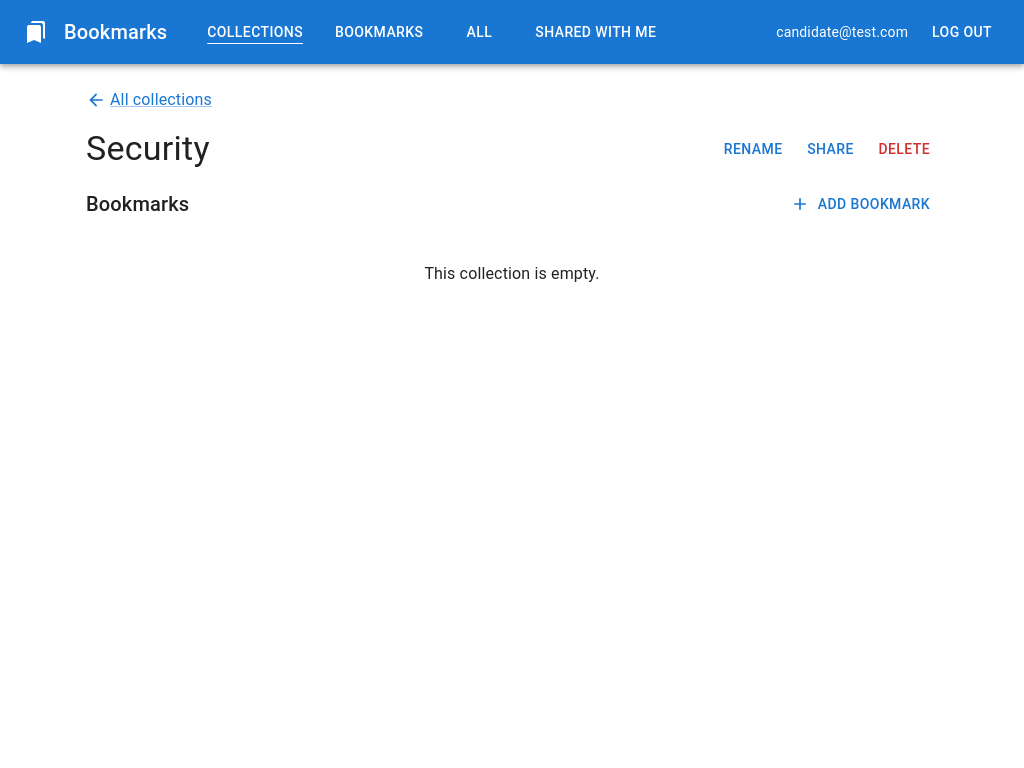
Test case: ShareDialog (ADR-019b/c/d) › shares with an email, clears the field, and lists the recipient
Click the button "Share" at [830, 149], box left=798, top=131, right=862, bottom=167
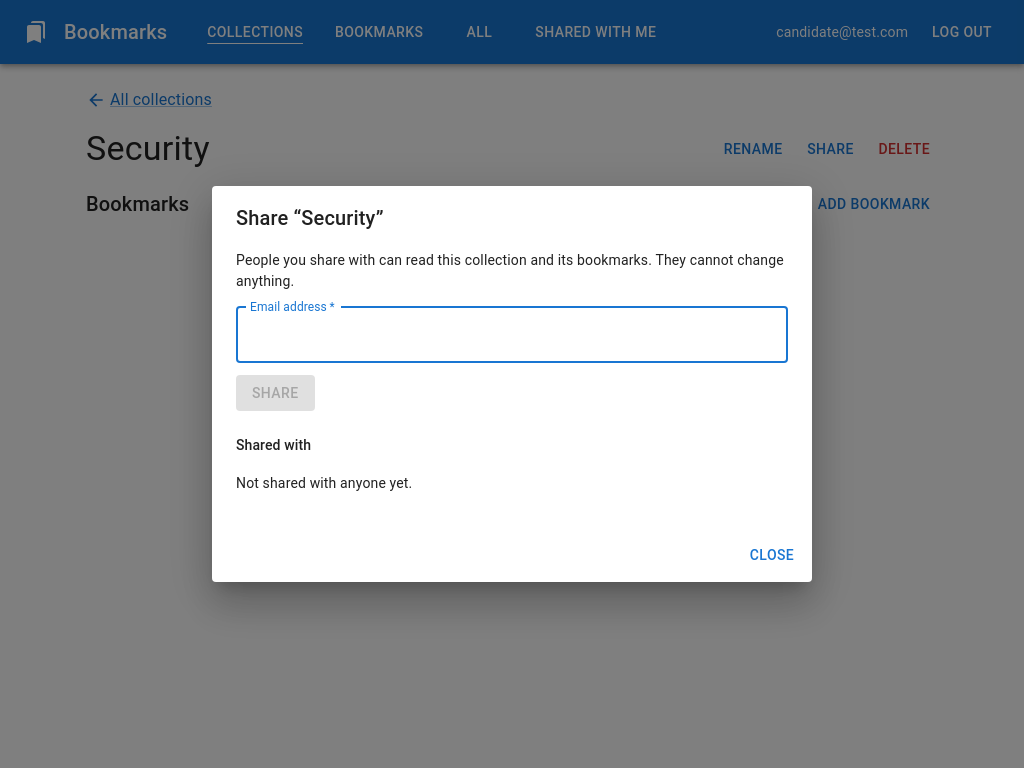
Type "USER-B@Example.com" into the field labelled "Email address *" at [512, 334], box left=236, top=306, right=788, bottom=362
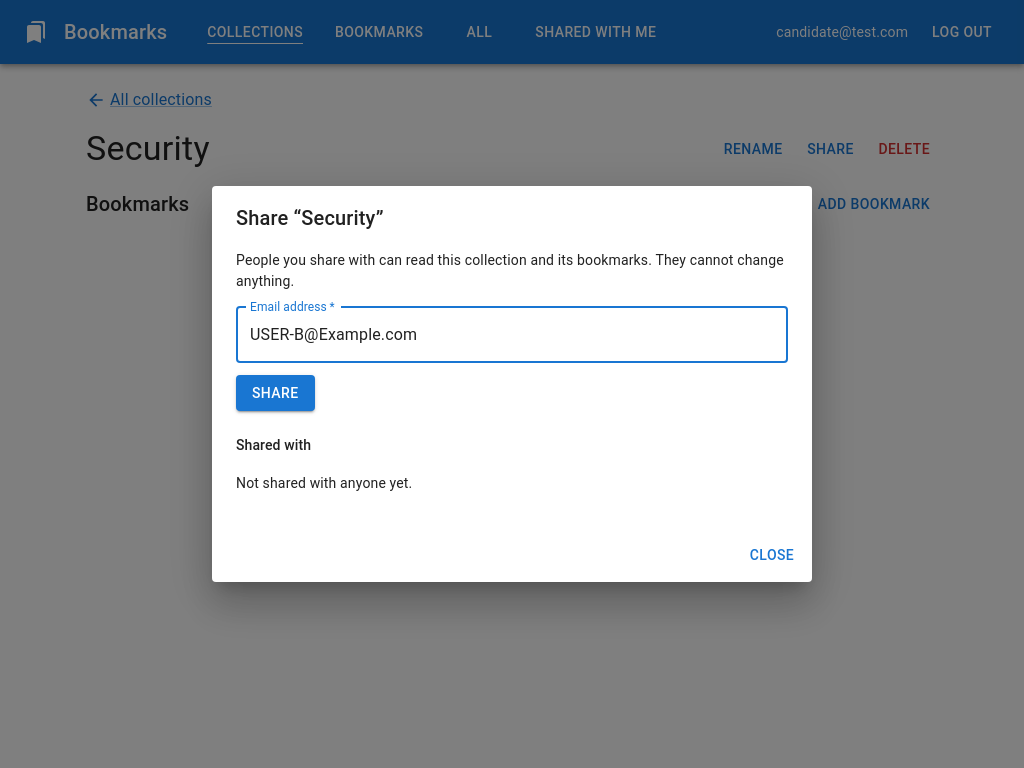
Click the button "Share" at [275, 393], box left=236, top=374, right=314, bottom=411
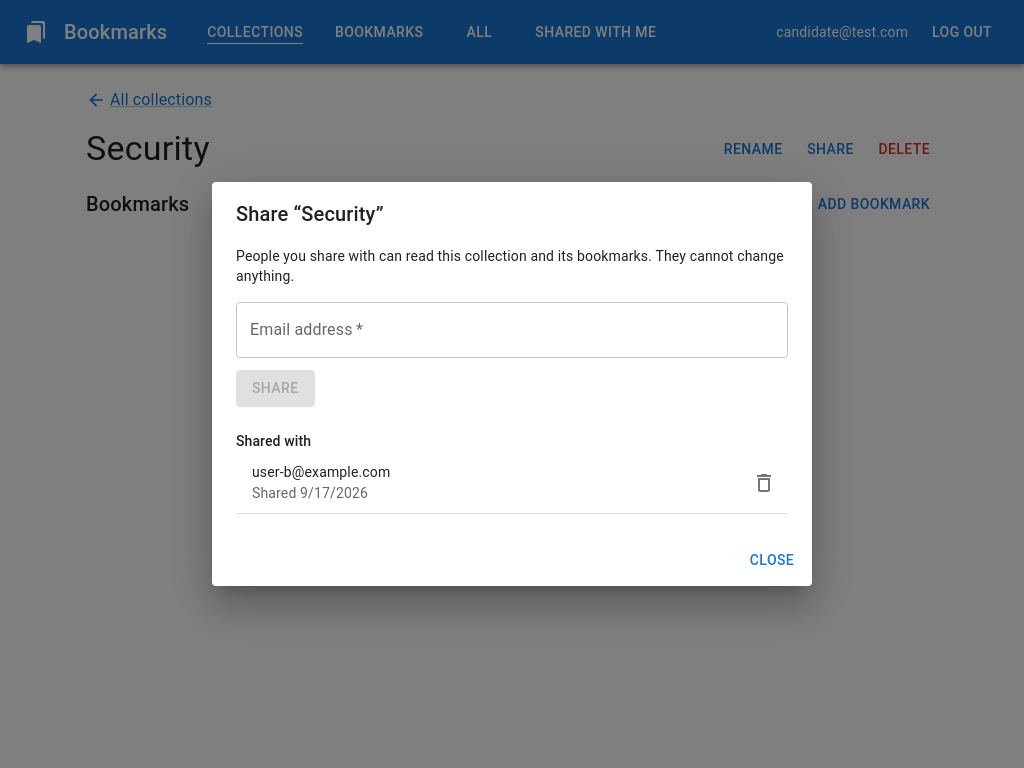
Expected: the text "user-b@example.com" is shown, left=252, top=464, right=390, bottom=480
Expected: the field labelled "Email address *" is empty, left=236, top=302, right=788, bottom=358
